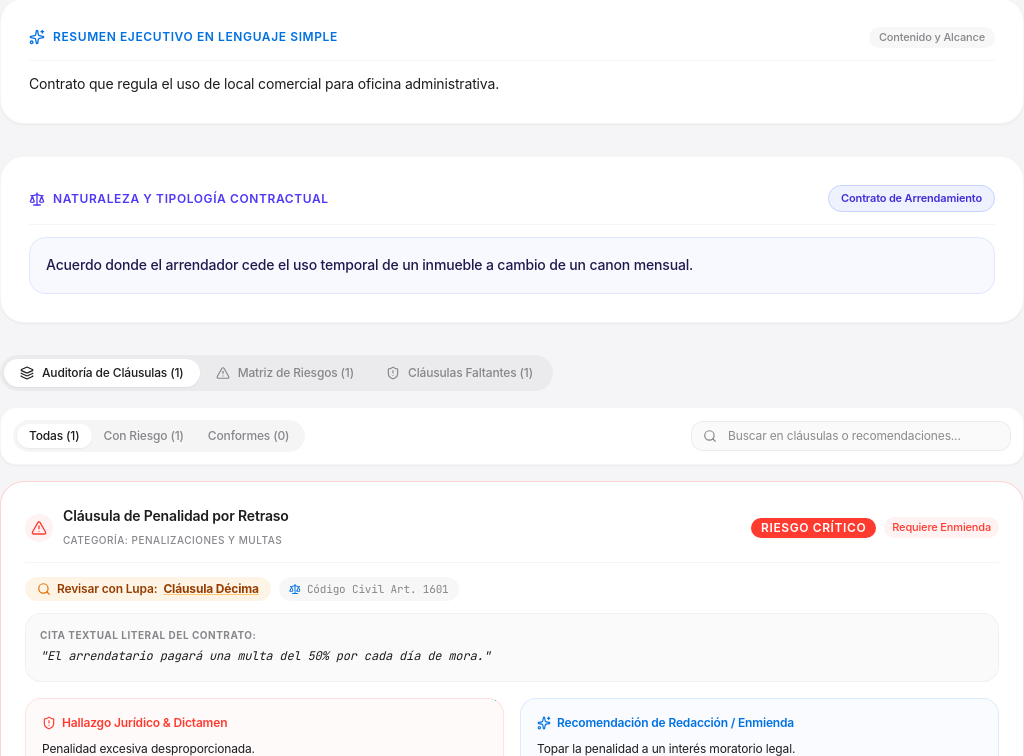
Scenario: Componente AuditResultView › debe permitir cambiar de pestaña a la Matriz de Riesgos y visualizar la vulnerabilidad PRIV_001
This screenshot has width=1024, height=756.
(page scrolled)
Clic en pestaña Matriz de Riesgos
Click the button "Matriz de Riesgos (1)".
click(285, 372)  # box [200,358,370,386]
(page scrolled)
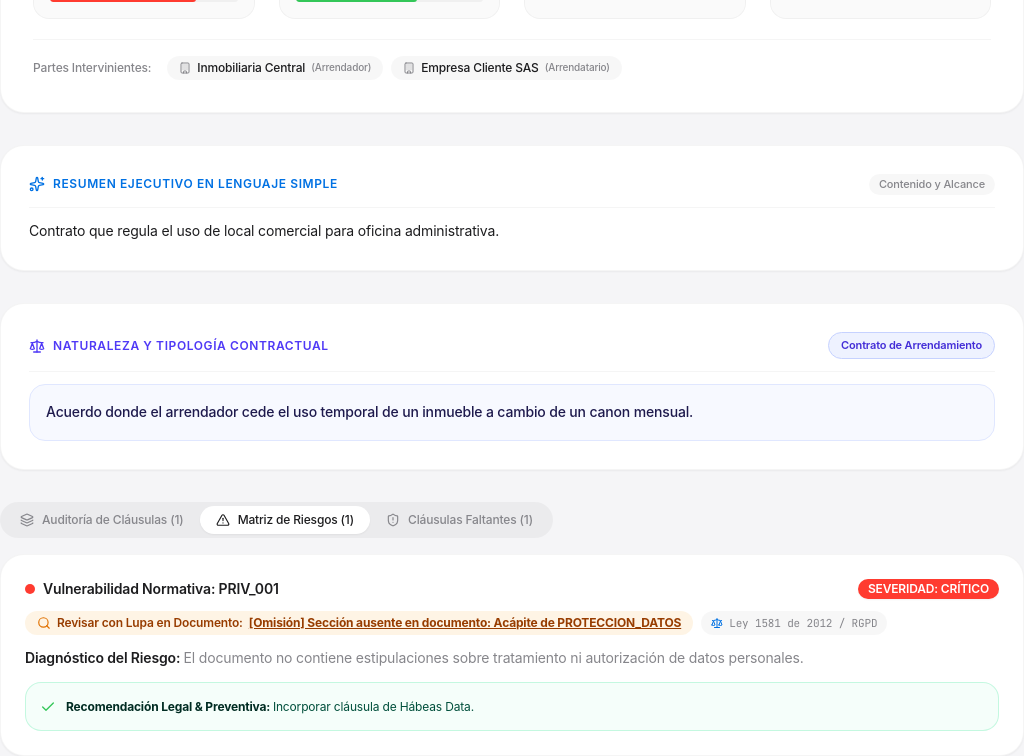
Check: the heading "Vulnerabilidad Normativa: PRIV_001" is shown, box [43,578,279,598]
Check: the text "Ley 1581 de 2012 / RGPD" is shown, box [729,614,877,631]
